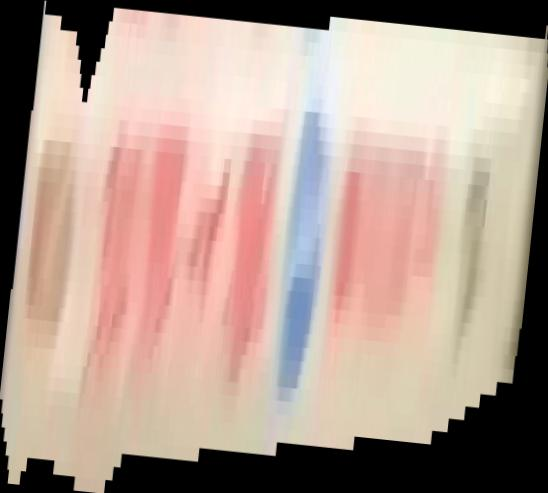flat: (1, 1, 548, 493)
